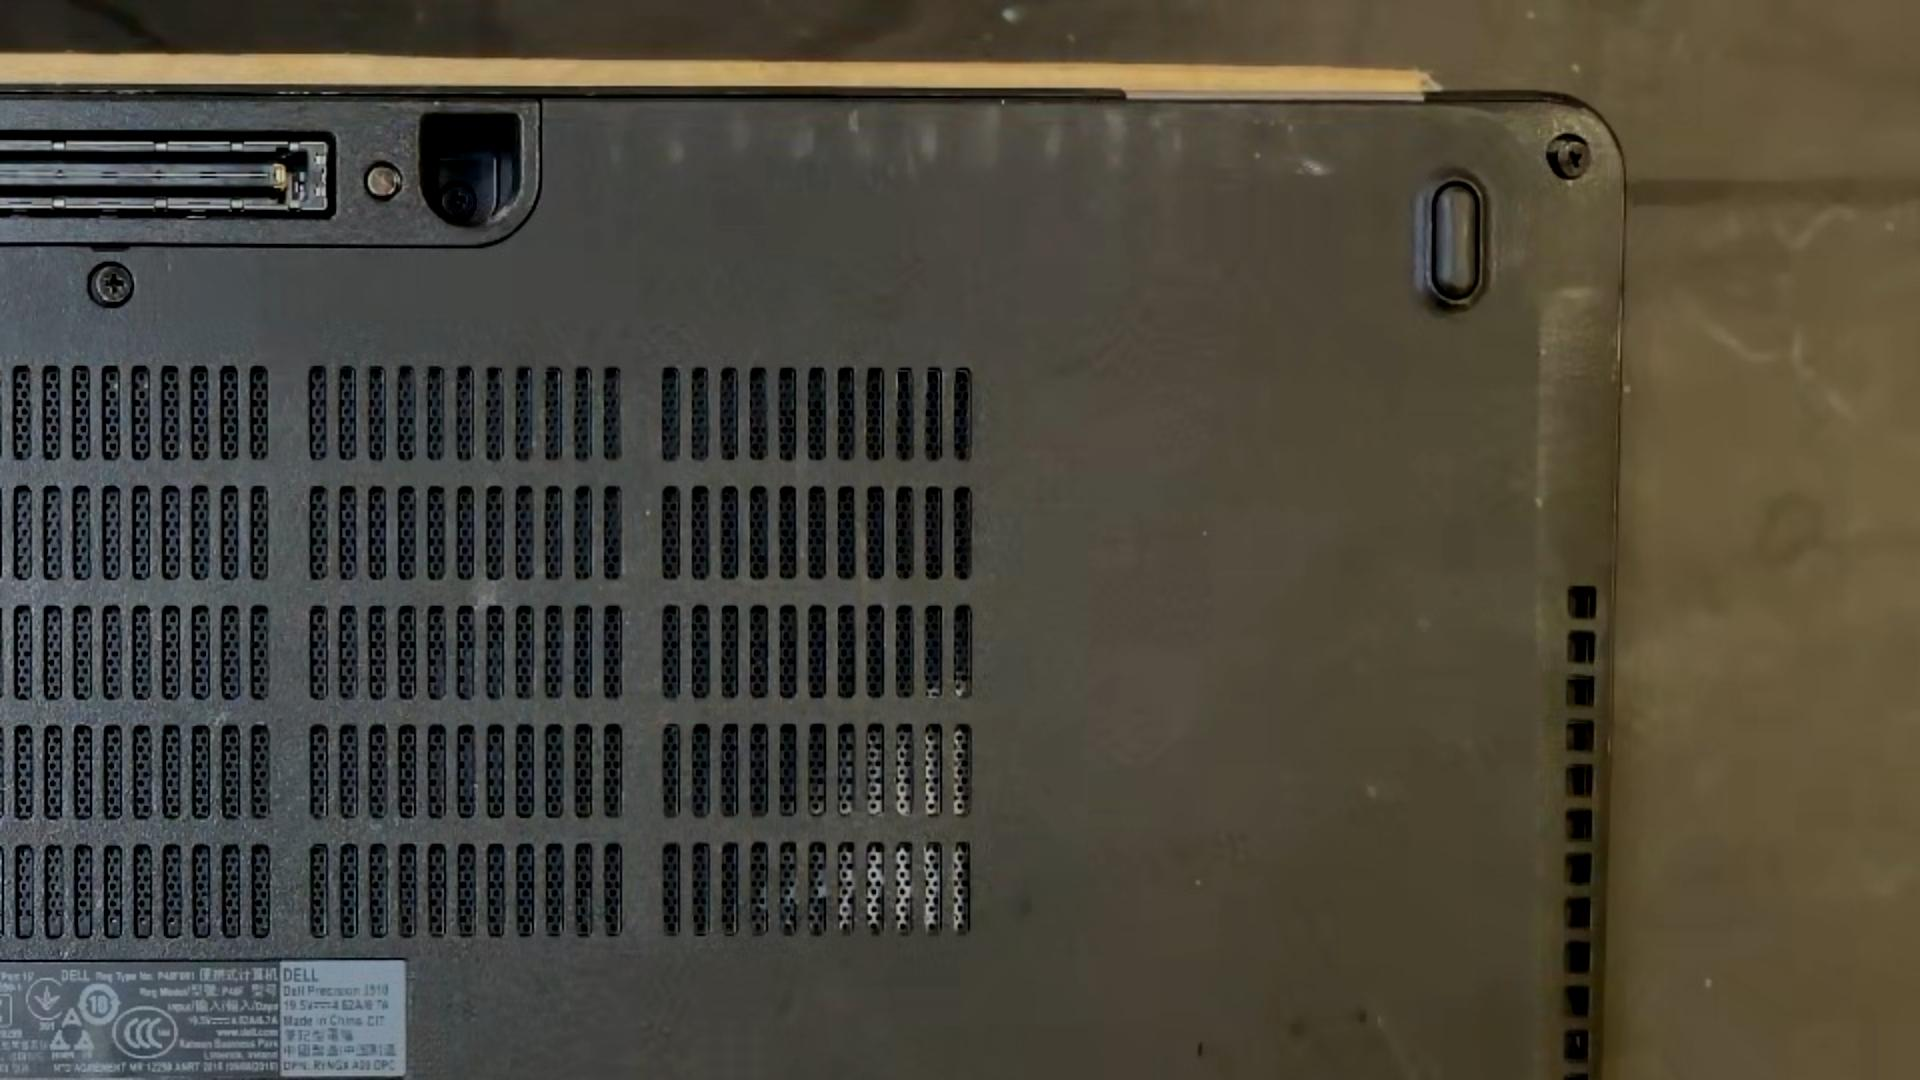chip: (1294, 160, 1333, 177), (644, 508, 653, 518), (433, 99, 442, 107)
scratches: (15, 87, 161, 94), (274, 90, 352, 95), (1195, 1035, 1205, 1062), (1001, 99, 1005, 105)
